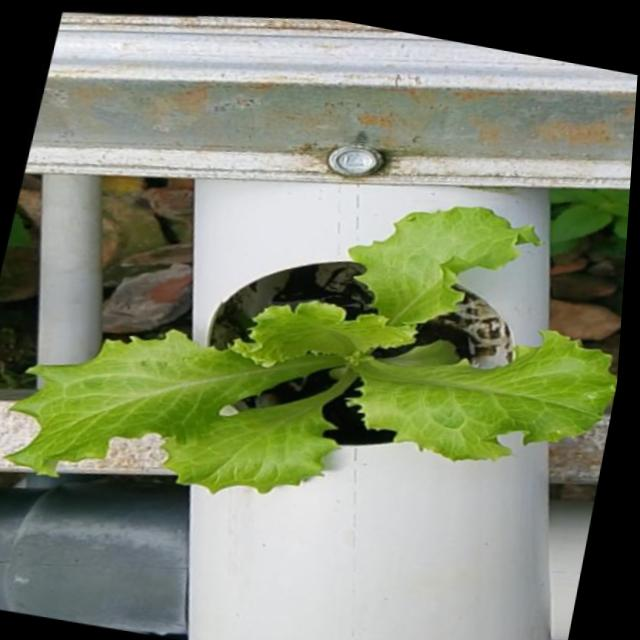Baby: (9, 211, 617, 497)
